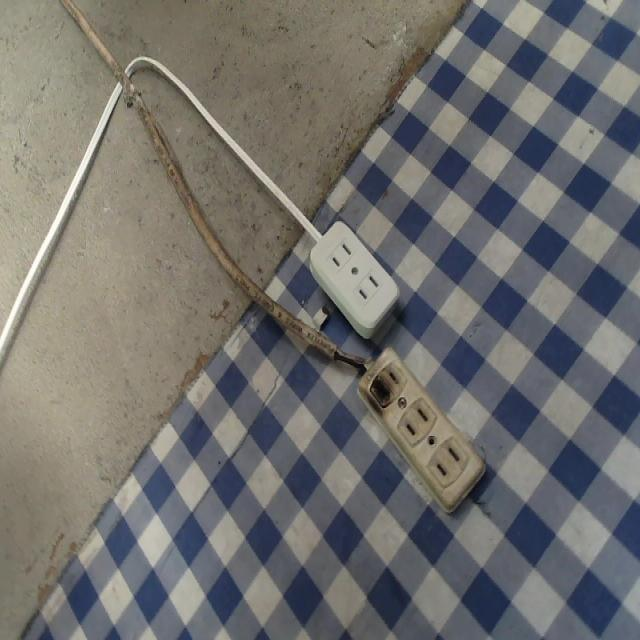-: (358, 368, 394, 420)
